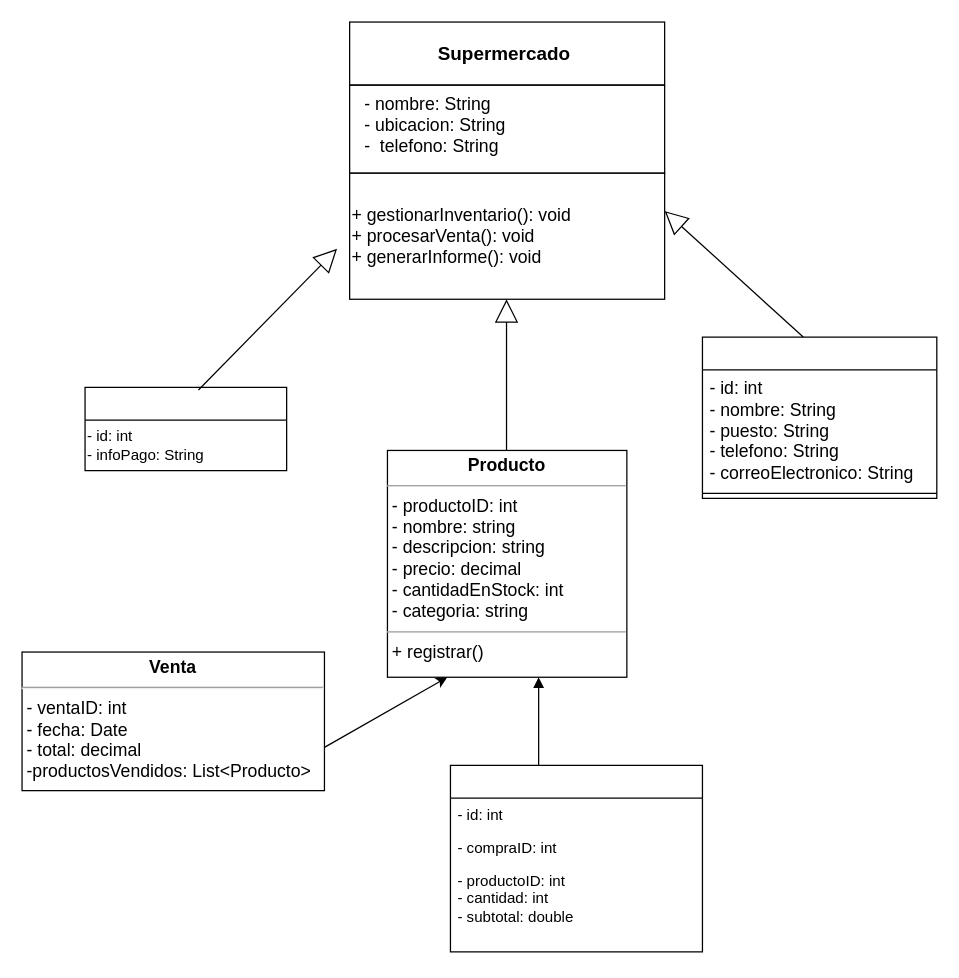
The diagram is 959 pixels wide and 978 high, and some of its shapes have lost their labels. The box of each missing label's shape, as (x1, y1, x2, y2) in pixels:
Cliente: (84, 386, 287, 471)
Detalle Venta: (449, 764, 702, 952)
Empleado: (701, 336, 937, 498)
